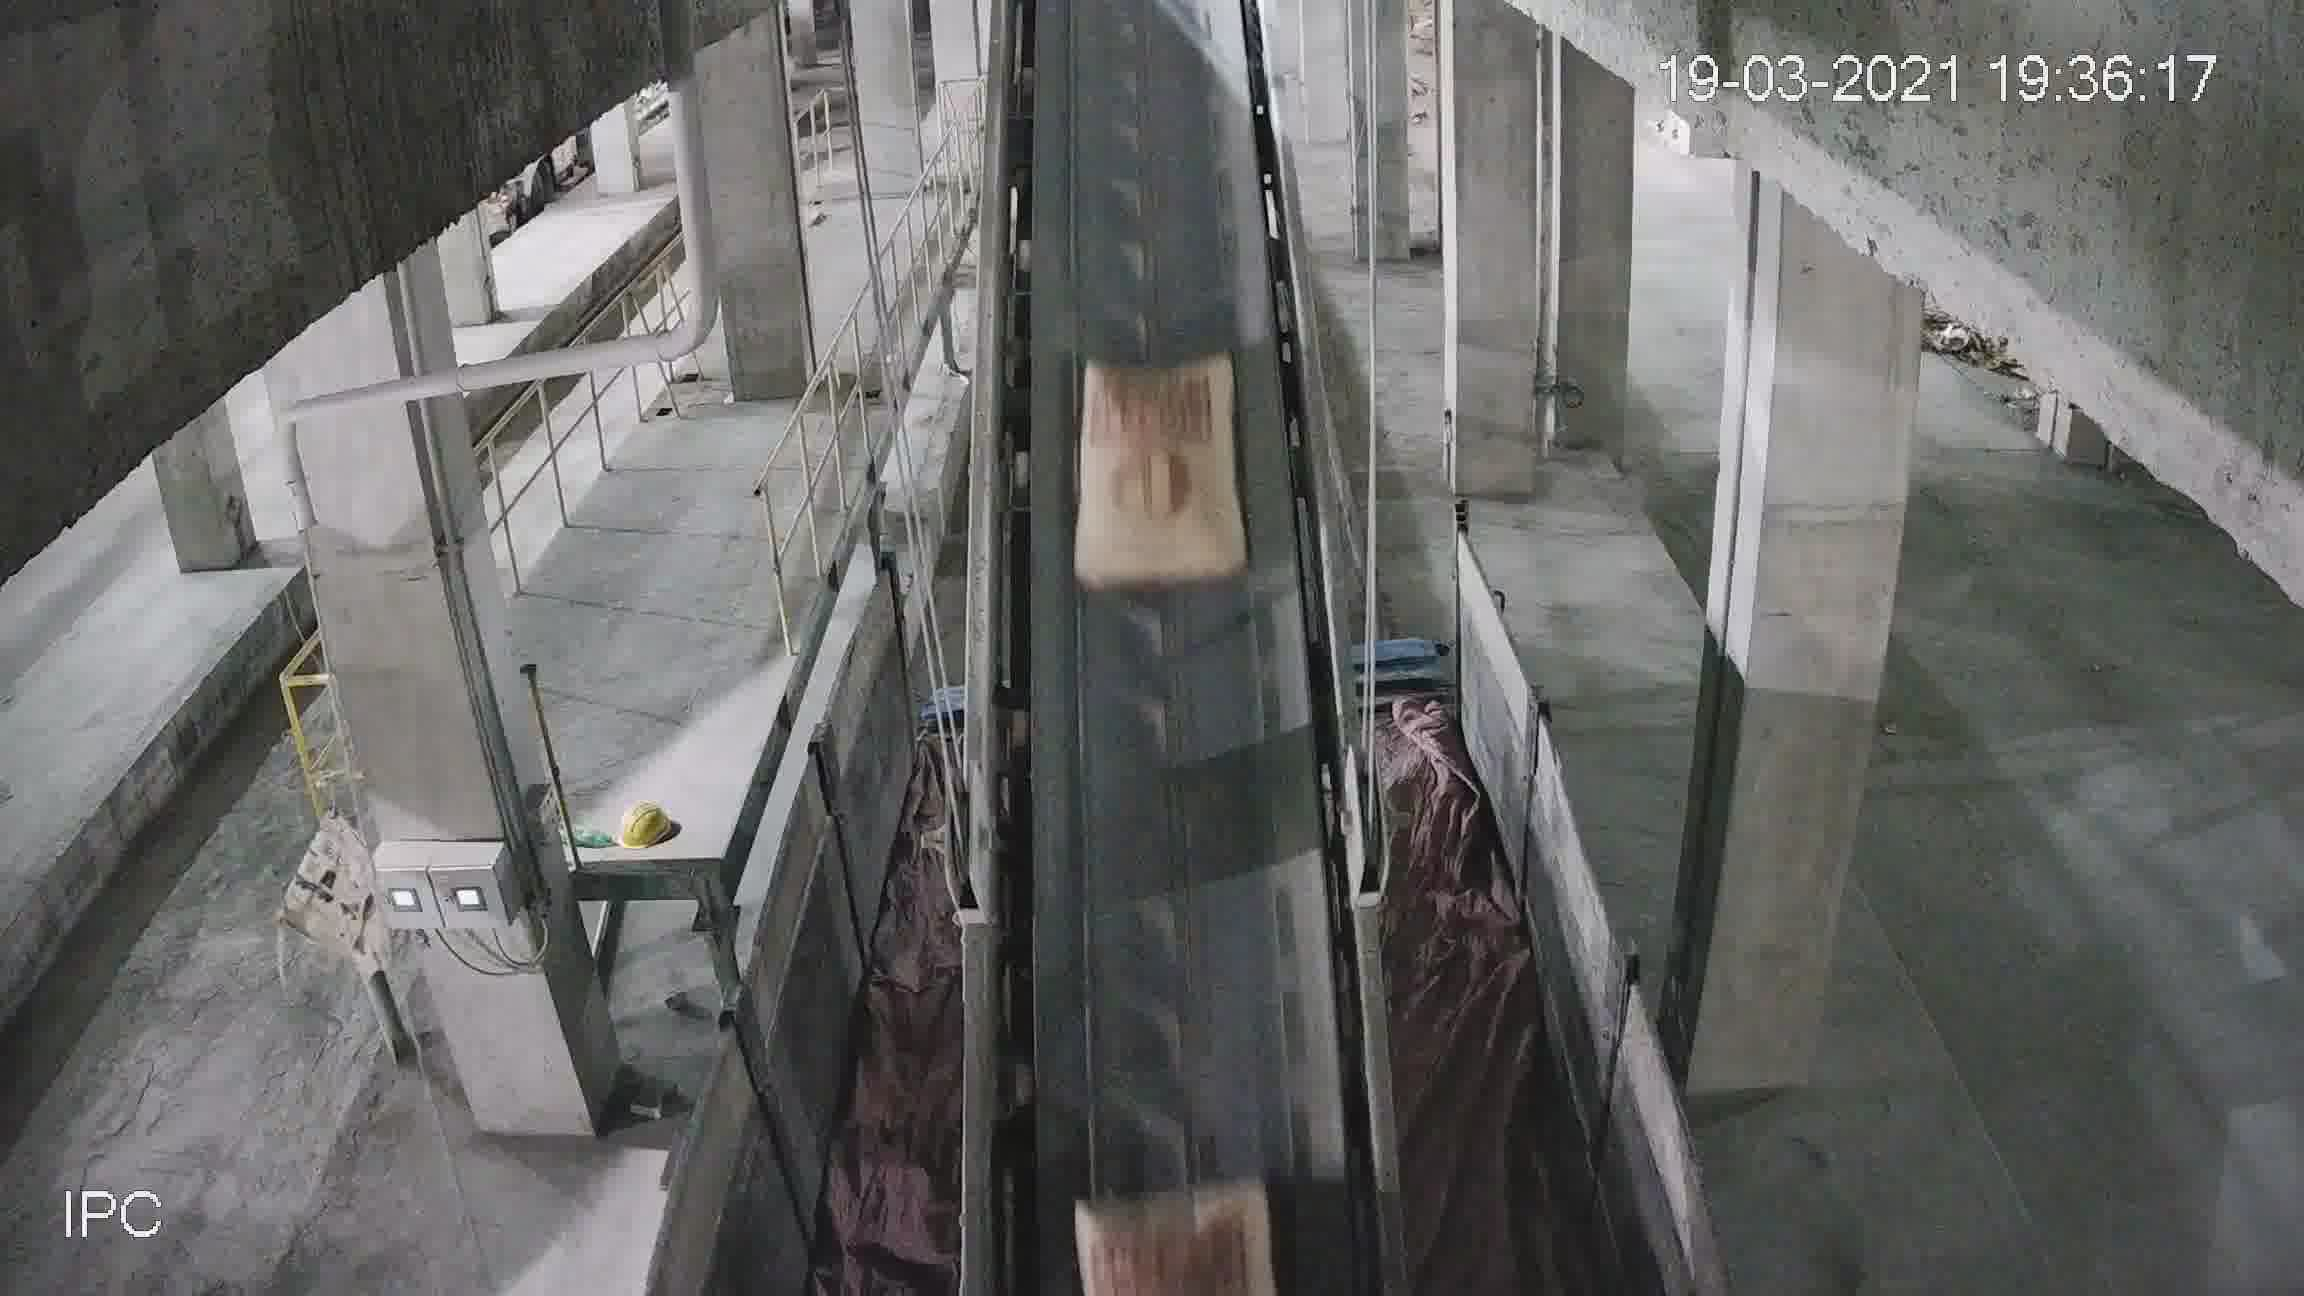bag: (1078, 347, 1233, 590), (1082, 1185, 1280, 1291)
belt: (961, 52, 1380, 1244)
